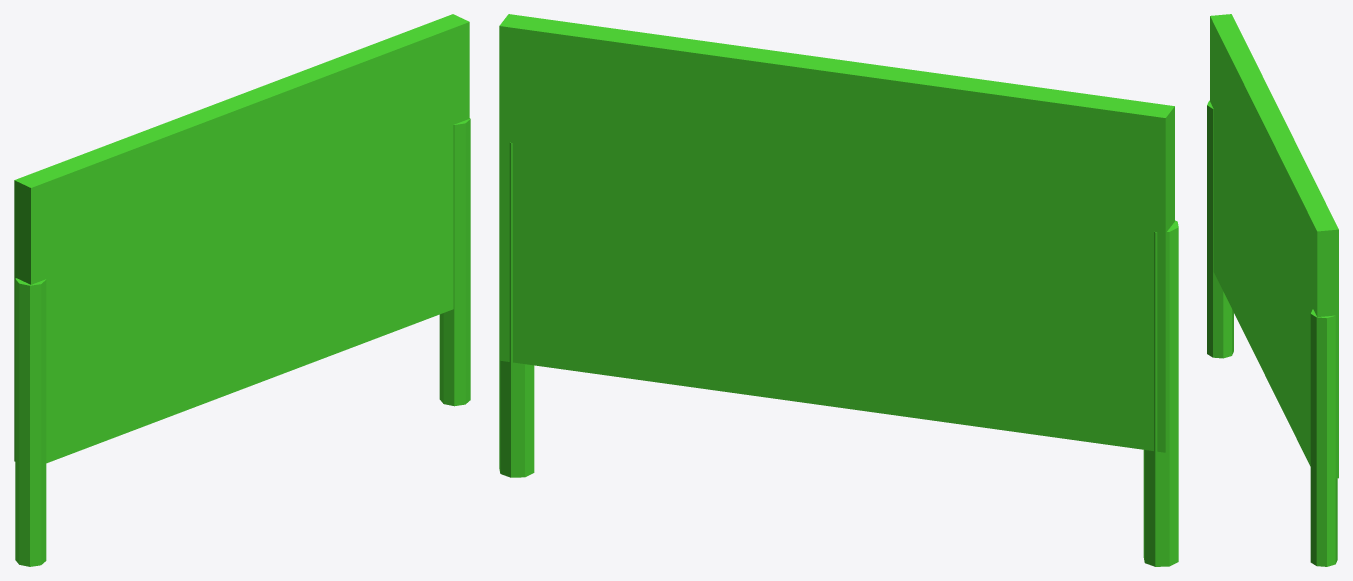
File: cylinder.002_lev3.glb
3 renders of one model, left to right at view 1: azimuth 30°, elevation 25°; view 2: azimuth 150°, elevation 25°; view 3: azimuth 270°, elevation 25°, orthographic. The views are drawn at different scales.
Parts seen in each view (by area): view 1: cylinder.002_lev3; view 2: cylinder.002_lev3; view 3: cylinder.002_lev3.
Boxes of the visible parts, x1,y1,x2,y2 form: cylinder.002_lev3: (14,14,470,566); cylinder.002_lev3: (499,14,1178,566); cylinder.002_lev3: (1207,14,1338,566).
Size of the model in its own units: 7.1 by 5.04 by 1.8.
